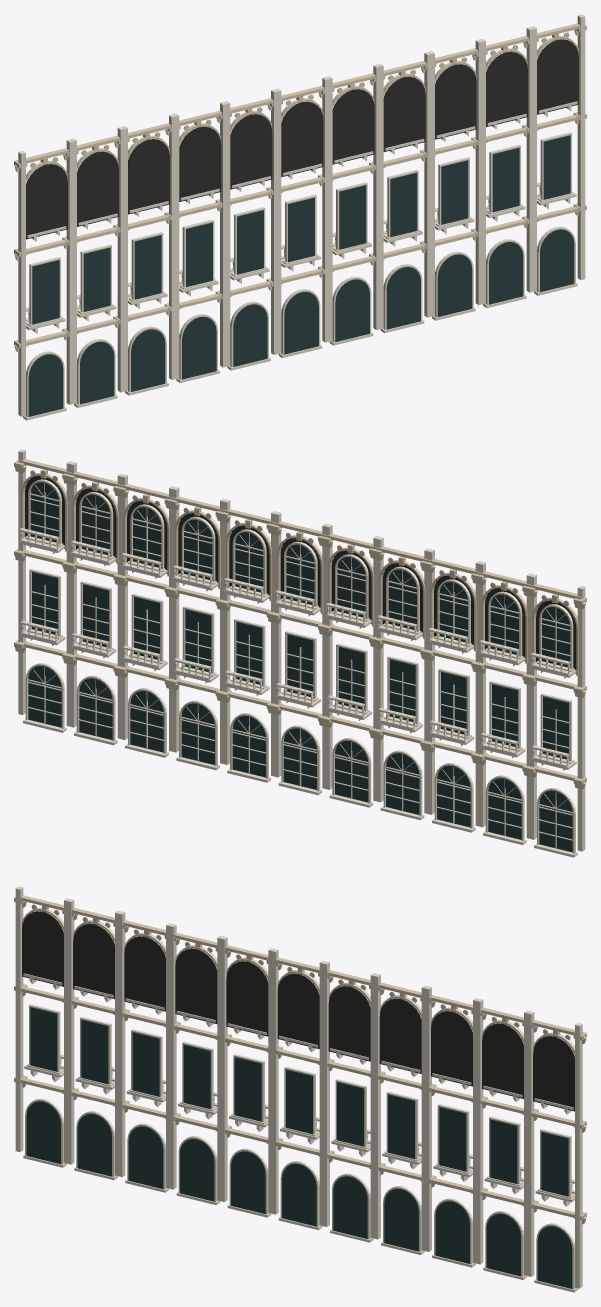
Rendered from KOL_T1_METROPOLITAN__03_Facades.fbx.
3 views of the same model, one above another, from view 1: azimuth 30°, elevation 25°; view 2: azimuth 150°, elevation 25°; view 3: azimuth 330°, elevation 25° (orthographic).
Parts seen in each view (by area): view 1: KOL_T1_METROPOLITAN__03_Facades__KOL_T1_HeritageGlass, KOL_T1_METROPOLITAN__03_Facades__KOL_T1_HeritageDark, KOL_T1_METROPOLITAN__03_Facades__KOL_T1_HeritageWhite.001, KOL_T1_METROPOLITAN__03_Facades__KOL_T1_HeritageWhite, KOL_T1_METROPOLITAN__03_Facades__KOL_T1_HeritageCream, KOL_T1_METROPOLITAN__03_Facades__KOL_T1_HeritageWhite.002, KOL_T1_METROPOLITAN__03_Facades__KOL_T1_HeritageWhite.003; view 2: KOL_T1_METROPOLITAN__03_Facades__KOL_T1_HeritageGlass, KOL_T1_METROPOLITAN__03_Facades__KOL_T1_HeritageWhite.001, KOL_T1_METROPOLITAN__03_Facades__KOL_T1_HeritageWhite, KOL_T1_METROPOLITAN__03_Facades__KOL_T1_HeritageCream, KOL_T1_METROPOLITAN__03_Facades__KOL_T1_HeritageWhite.002, KOL_T1_METROPOLITAN__03_Facades__KOL_T1_HeritageDark, KOL_T1_METROPOLITAN__03_Facades__KOL_T1_HeritageWhite.003; view 3: KOL_T1_METROPOLITAN__03_Facades__KOL_T1_HeritageGlass, KOL_T1_METROPOLITAN__03_Facades__KOL_T1_HeritageDark, KOL_T1_METROPOLITAN__03_Facades__KOL_T1_HeritageWhite.001, KOL_T1_METROPOLITAN__03_Facades__KOL_T1_HeritageWhite, KOL_T1_METROPOLITAN__03_Facades__KOL_T1_HeritageWhite.002, KOL_T1_METROPOLITAN__03_Facades__KOL_T1_HeritageCream, KOL_T1_METROPOLITAN__03_Facades__KOL_T1_HeritageWhite.003.
Boxes of the visible parts, x1,y1,x2,y2 form: KOL_T1_METROPOLITAN__03_Facades__KOL_T1_HeritageGlass: [28, 135, 574, 416]; KOL_T1_METROPOLITAN__03_Facades__KOL_T1_HeritageDark: [26, 39, 578, 239]; KOL_T1_METROPOLITAN__03_Facades__KOL_T1_HeritageWhite.001: [174, 64, 424, 379]; KOL_T1_METROPOLITAN__03_Facades__KOL_T1_HeritageWhite: [18, 114, 219, 420]; KOL_T1_METROPOLITAN__03_Facades__KOL_T1_HeritageCream: [14, 23, 586, 352]; KOL_T1_METROPOLITAN__03_Facades__KOL_T1_HeritageWhite.002: [377, 27, 577, 328]; KOL_T1_METROPOLITAN__03_Facades__KOL_T1_HeritageWhite.003: [531, 14, 585, 291]; KOL_T1_METROPOLITAN__03_Facades__KOL_T1_HeritageGlass: [28, 482, 572, 852]; KOL_T1_METROPOLITAN__03_Facades__KOL_T1_HeritageWhite.001: [174, 499, 430, 813]; KOL_T1_METROPOLITAN__03_Facades__KOL_T1_HeritageWhite: [378, 549, 585, 857]; KOL_T1_METROPOLITAN__03_Facades__KOL_T1_HeritageCream: [14, 459, 586, 789]; KOL_T1_METROPOLITAN__03_Facades__KOL_T1_HeritageWhite.002: [19, 462, 225, 764]; KOL_T1_METROPOLITAN__03_Facades__KOL_T1_HeritageDark: [25, 476, 576, 673]; KOL_T1_METROPOLITAN__03_Facades__KOL_T1_HeritageWhite.003: [18, 449, 73, 726]; KOL_T1_METROPOLITAN__03_Facades__KOL_T1_HeritageGlass: [26, 1007, 572, 1288]; KOL_T1_METROPOLITAN__03_Facades__KOL_T1_HeritageDark: [22, 911, 574, 1111]; KOL_T1_METROPOLITAN__03_Facades__KOL_T1_HeritageWhite.001: [169, 924, 424, 1254]; KOL_T1_METROPOLITAN__03_Facades__KOL_T1_HeritageWhite: [15, 886, 220, 1205]; KOL_T1_METROPOLITAN__03_Facades__KOL_T1_HeritageWhite.002: [373, 974, 577, 1292]; KOL_T1_METROPOLITAN__03_Facades__KOL_T1_HeritageCream: [14, 895, 586, 1224]; KOL_T1_METROPOLITAN__03_Facades__KOL_T1_HeritageWhite.003: [526, 1011, 582, 1288].
Bounding box in the file's own units: 123 × 55.27 × 3.48.
